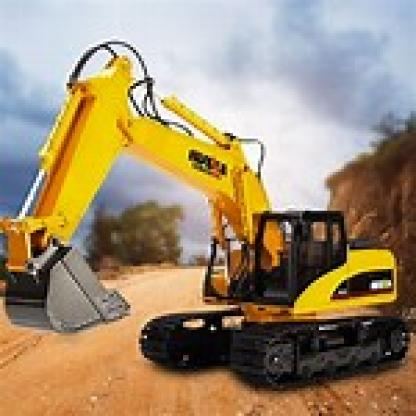excavator: (0, 38, 410, 388)
